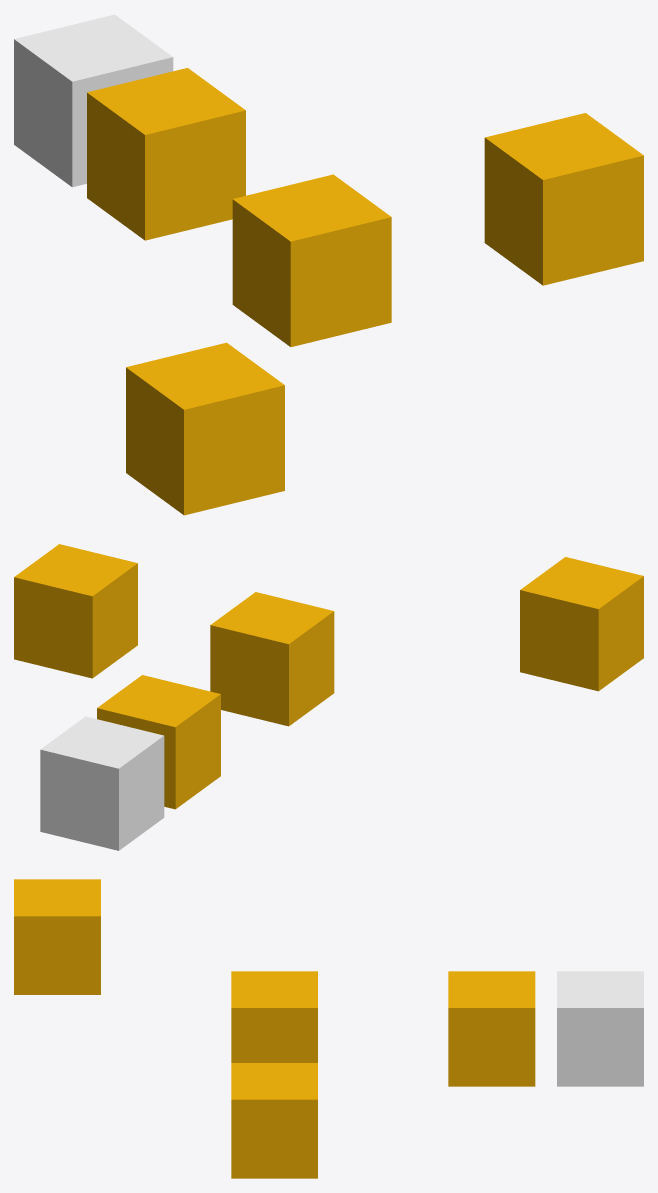
3 views of the same model, one above another, from view 1: azimuth 30°, elevation 25°; view 2: azimuth 150°, elevation 25°; view 3: azimuth 270°, elevation 25° (orthographic). The views are drawn at different scales.
Parts seen in each view (by area): view 1: Enemy2, Enemy1, Enemy3, Enemy0, Block; view 2: Block, Enemy3, Enemy2, Enemy1, Enemy0; view 3: Enemy0, Block, Enemy3, Enemy2, Enemy1.
Part boxes in pixels (x1,y1,x2,y2): Enemy2: [484, 113, 643, 285]; Enemy1: [232, 174, 391, 346]; Enemy3: [126, 342, 284, 515]; Enemy0: [87, 68, 245, 240]; Block: [14, 14, 173, 187]; Block: [40, 716, 164, 850]; Enemy3: [520, 557, 643, 691]; Enemy2: [14, 544, 137, 678]; Enemy1: [210, 592, 334, 726]; Enemy0: [97, 675, 220, 809]; Enemy0: [448, 971, 535, 1086]; Block: [557, 971, 643, 1086]; Enemy3: [14, 879, 100, 994]; Enemy2: [231, 1063, 317, 1178]; Enemy1: [231, 971, 317, 1062].
Size of what is drawn, in the model's own units: 4.8 by 5.8 by 0.8.
